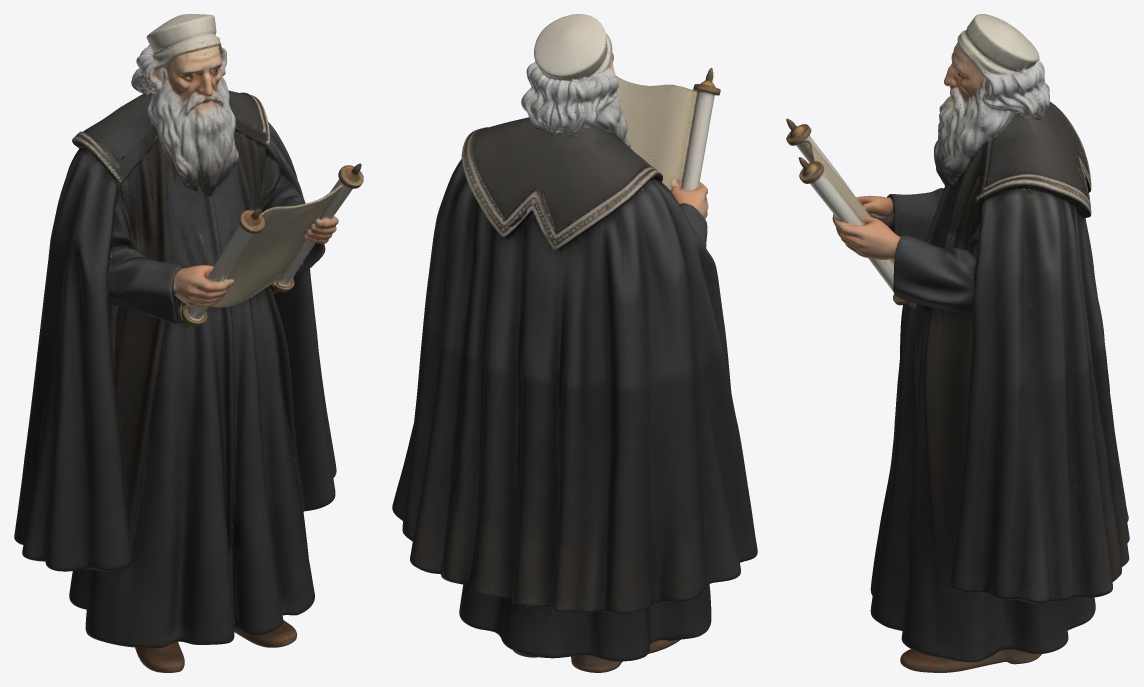
Rendered from ramban_viseme.glb.
3 views of the same model, side by side, from view 1: azimuth 30°, elevation 25°; view 2: azimuth 150°, elevation 25°; view 3: azimuth 270°, elevation 25° (orthographic).
Size of the model in its own units: 1.09 by 2 by 0.999.
Materials: 1 (1 with a texture image).
